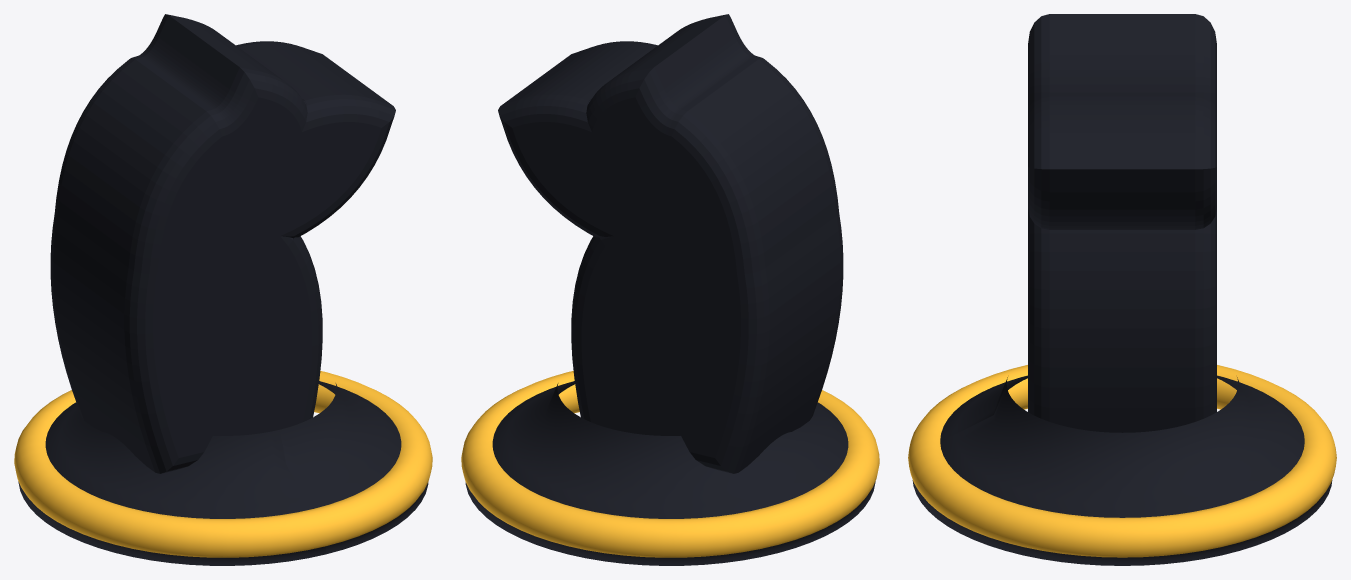
The picture shows the model from 3 angles, left to right: view 1: azimuth 30°, elevation 25°; view 2: azimuth 150°, elevation 25°; view 3: azimuth 270°, elevation 25°; orthographic projection. The views are drawn at different scales.
Size of the model in its own units: 1 by 1.17 by 1.
